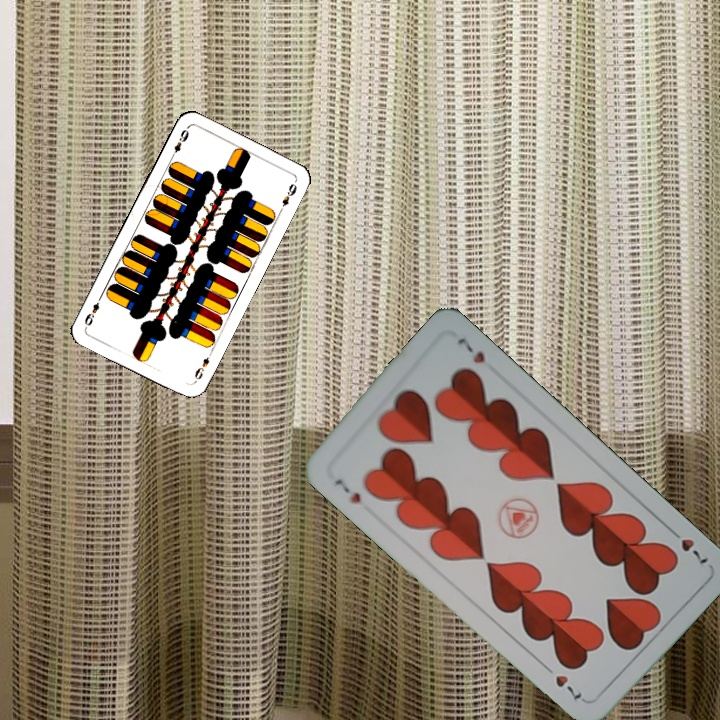E9: (167, 124, 192, 162), (190, 347, 215, 385)
H7: (664, 523, 712, 567), (330, 474, 364, 506)
